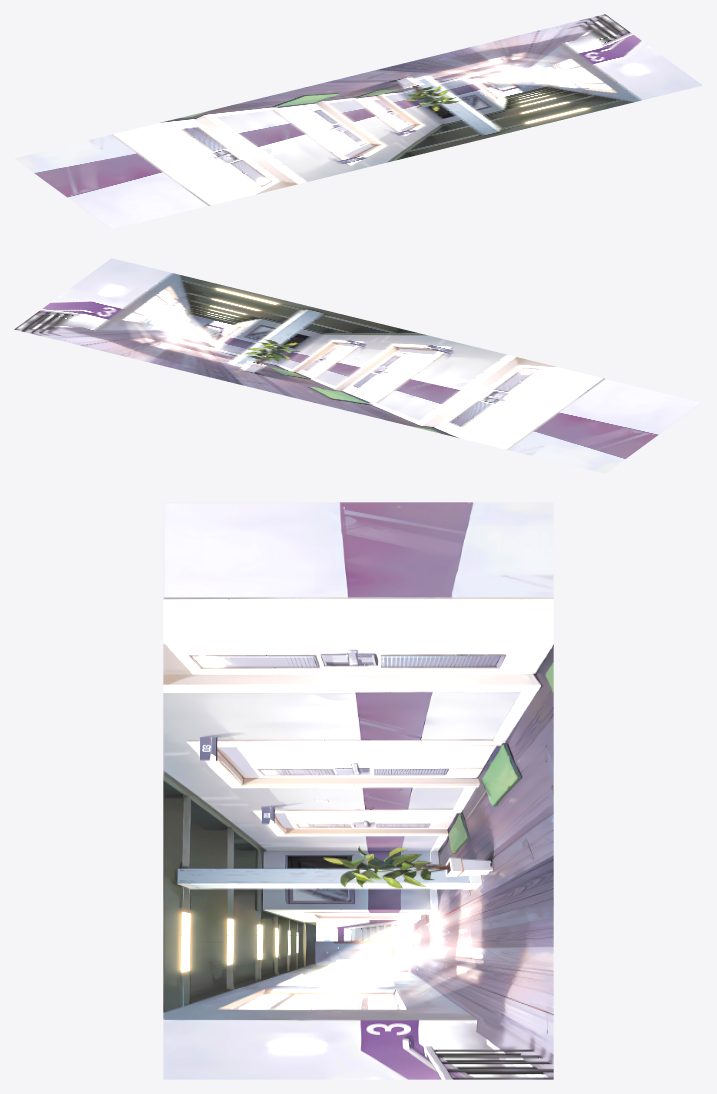
The model's file is hallway_bg.glb.
3 views of the same model, one above another, from view 1: azimuth 30°, elevation 25°; view 2: azimuth 150°, elevation 25°; view 3: azimuth 270°, elevation 25° (orthographic). The views are drawn at different scales.
Visible parts, largest first — view 1: 01; view 2: 01; view 3: 01.
Boxes of the visible parts, x1,y1,x2,y2 form: 01: (14,14,702,229); 01: (14,258,702,473); 01: (163,502,553,1079).
Bounding box in the file's own units: 70 × 0 × 20.
16 materials, 16 textured.
